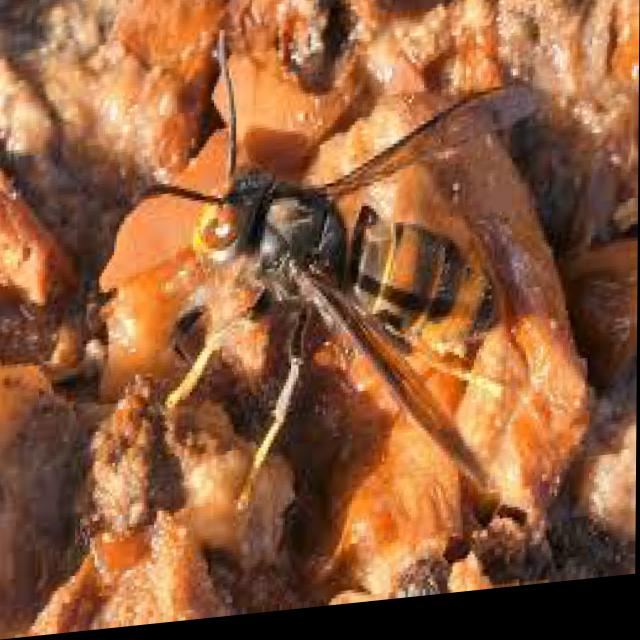Vespa Velutina: (134, 0, 552, 524)
